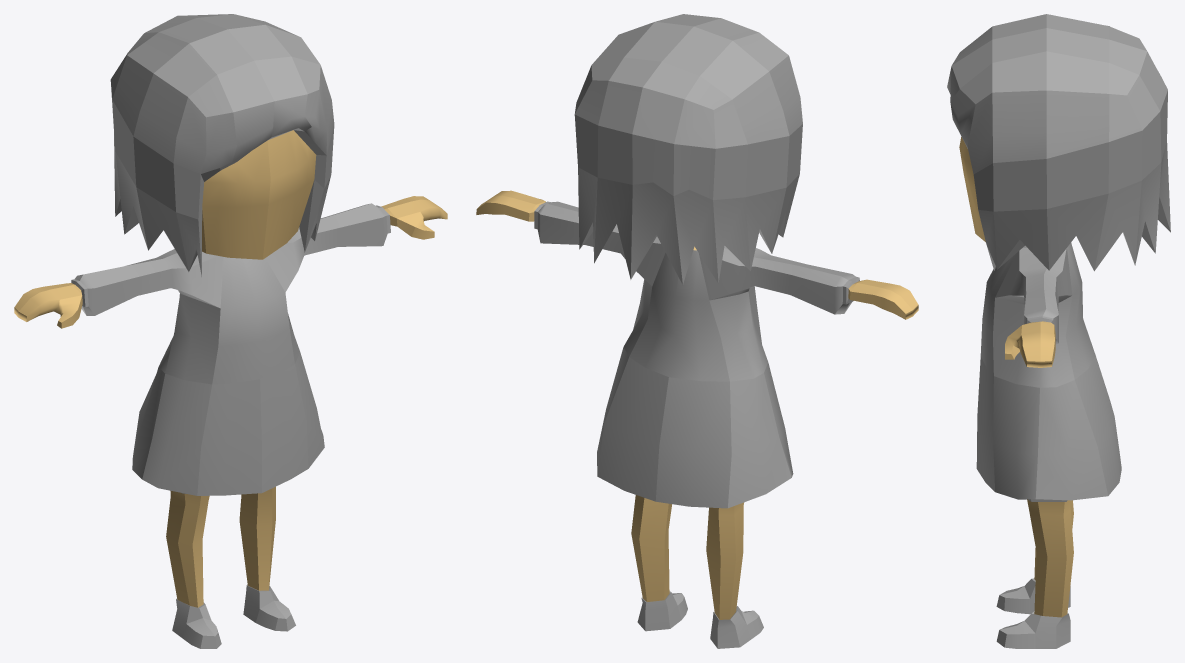
File: girl01.fbx
The picture shows the model from 3 angles, left to right: view 1: azimuth 30°, elevation 25°; view 2: azimuth 150°, elevation 25°; view 3: azimuth 270°, elevation 25°; orthographic projection. The views are drawn at different scales.
Visible parts, largest first — view 1: girl1; view 2: girl1; view 3: girl1.
Boxes of the visible parts, left/top/right/bottom form: girl1: left=14, top=14, right=447, bottom=648; girl1: left=476, top=14, right=918, bottom=648; girl1: left=947, top=14, right=1170, bottom=648.
Bounding box in the file's own units: 67.46 × 90.25 × 30.72.
